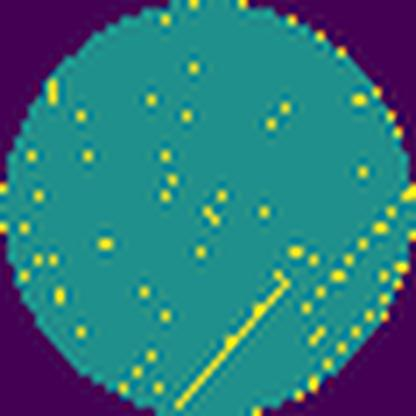Scratch: (172, 275, 295, 410)
